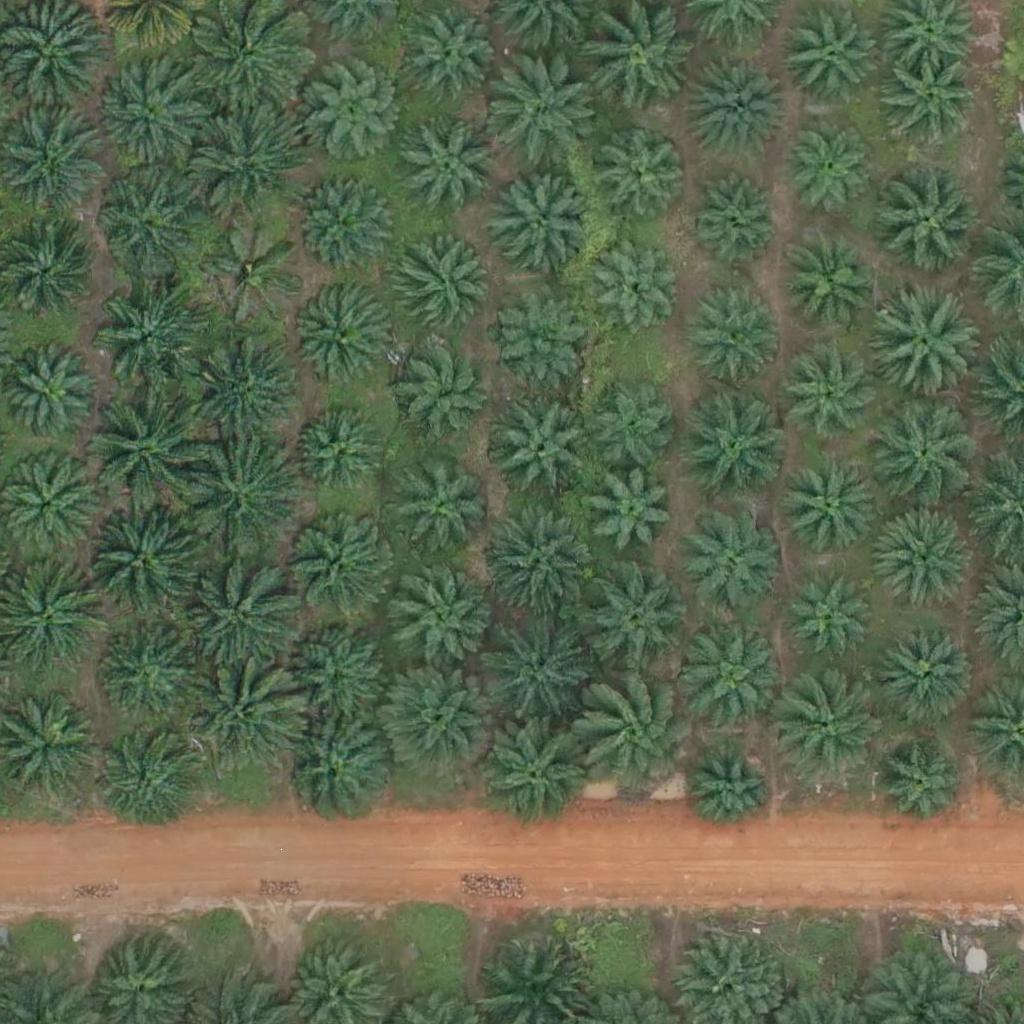Kelapa_Sawit: (576, 674, 701, 800), (871, 162, 984, 276), (87, 502, 200, 616), (864, 290, 977, 403), (480, 511, 593, 624), (480, 612, 593, 725), (476, 719, 589, 832), (181, 556, 294, 669), (184, 327, 297, 440), (188, 107, 301, 220), (86, 396, 199, 509), (485, 59, 597, 173), (184, 441, 296, 555), (867, 397, 979, 510), (777, 671, 889, 784), (576, 563, 688, 676), (385, 667, 497, 780), (279, 713, 391, 826), (184, 661, 296, 774), (92, 275, 204, 388), (878, 623, 978, 724), (781, 7, 881, 108), (781, 231, 881, 332), (783, 348, 883, 449), (779, 459, 879, 560), (684, 280, 784, 381), (683, 399, 783, 500), (680, 508, 780, 609), (592, 120, 692, 221), (492, 175, 592, 276), (496, 404, 596, 505), (397, 117, 497, 218), (389, 237, 489, 338), (394, 337, 494, 438), (390, 569, 490, 670), (295, 172, 395, 273), (292, 288, 392, 389), (291, 514, 391, 615), (93, 61, 193, 162), (95, 173, 195, 274), (99, 626, 199, 727), (96, 735, 196, 836), (1, 118, 101, 219), (877, 506, 977, 606), (683, 62, 783, 162), (685, 631, 785, 731), (488, 287, 588, 387), (298, 67, 398, 167), (292, 616, 392, 716), (204, 223, 304, 323), (784, 129, 872, 218), (6, 352, 94, 441), (889, 58, 977, 146), (879, 746, 967, 834), (689, 173, 777, 261), (294, 413, 382, 501), (791, 574, 878, 663), (686, 746, 773, 834), (590, 241, 677, 329), (590, 382, 677, 470), (587, 470, 674, 558), (409, 12, 496, 100), (398, 465, 485, 553)
